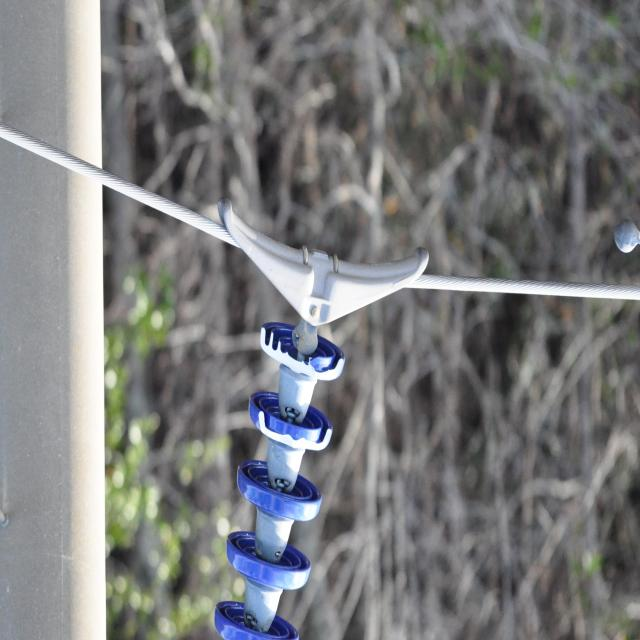broken: (254, 318, 343, 380), (254, 406, 333, 449)
insulator: (212, 322, 342, 640)
